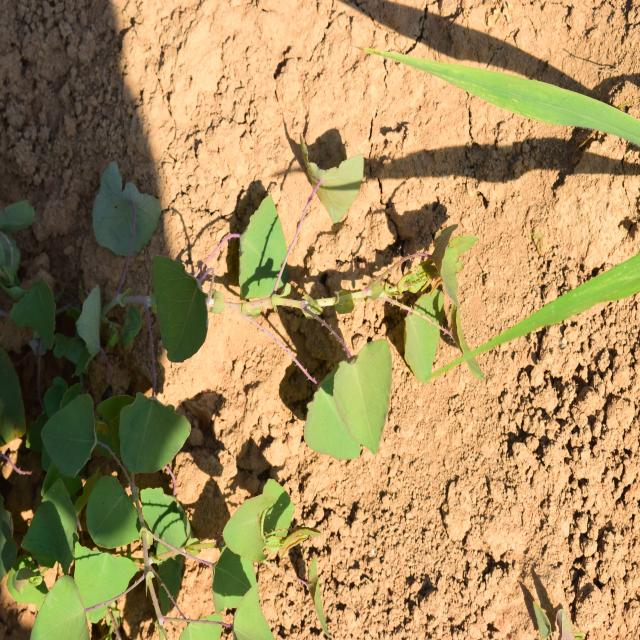Asiatic_Smartweed: (283, 150, 471, 472), (20, 370, 195, 570), (63, 150, 232, 356), (155, 454, 329, 636)
